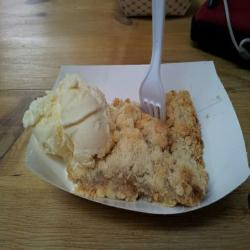apple_pie: (64, 97, 211, 205)
icecream: (29, 73, 117, 178)
